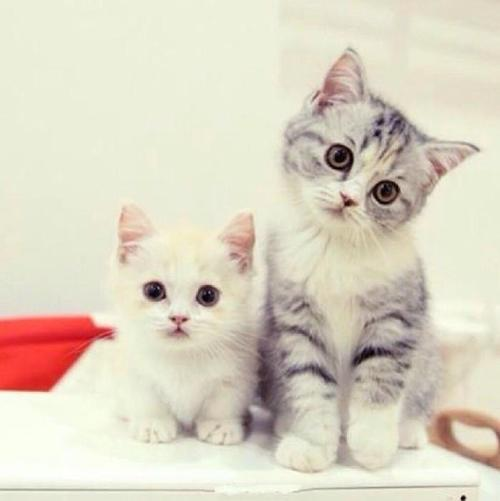cat: (271, 48, 479, 247), (110, 196, 265, 353)
